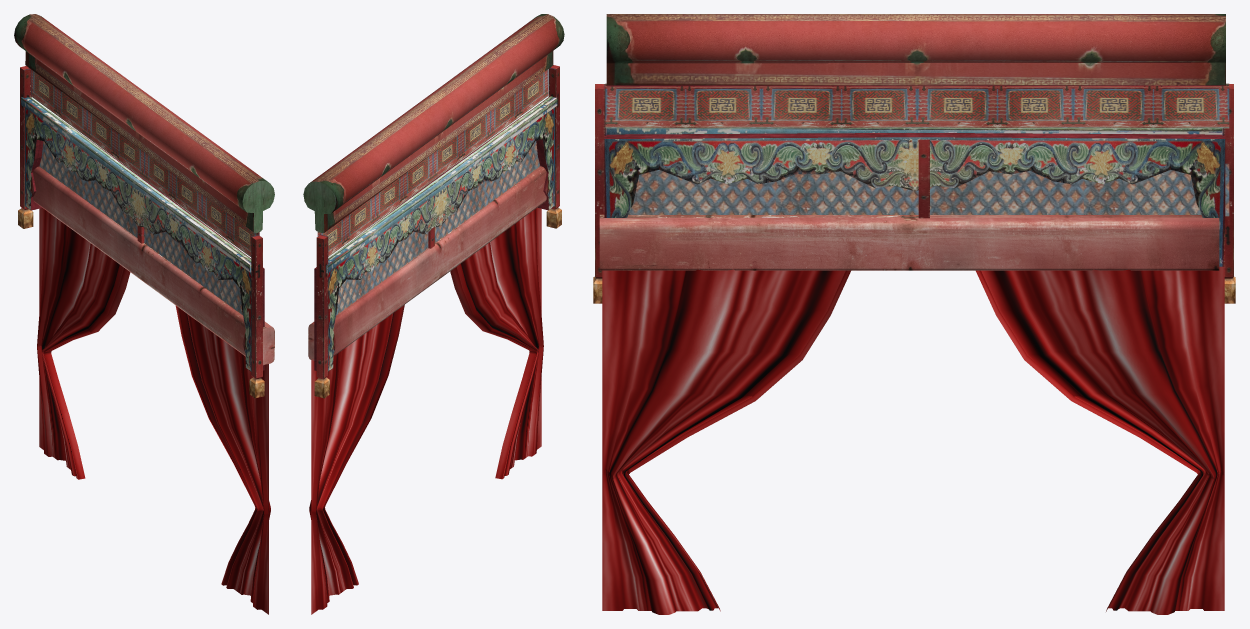
File: SM_R_Curtain_1.fbx
3 renders of one model, left to right at view 1: azimuth 30°, elevation 25°; view 2: azimuth 150°, elevation 25°; view 3: azimuth 270°, elevation 25°, orthographic. The views are drawn at different scales.
Parts seen in each view (by area): view 1: SM_R_Curtain_1; view 2: SM_R_Curtain_1; view 3: SM_R_Curtain_1.
Boxes of the visible parts, left/top/right/bottom form: SM_R_Curtain_1: left=14, top=14, right=274, bottom=614; SM_R_Curtain_1: left=303, top=14, right=564, bottom=614; SM_R_Curtain_1: left=593, top=14, right=1235, bottom=614.
Size of the model in its own units: 36.53 by 461 by 466.
Materials: 3 (3 with a texture image).
